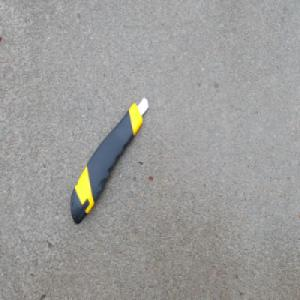Cutter: (69, 95, 149, 225)
